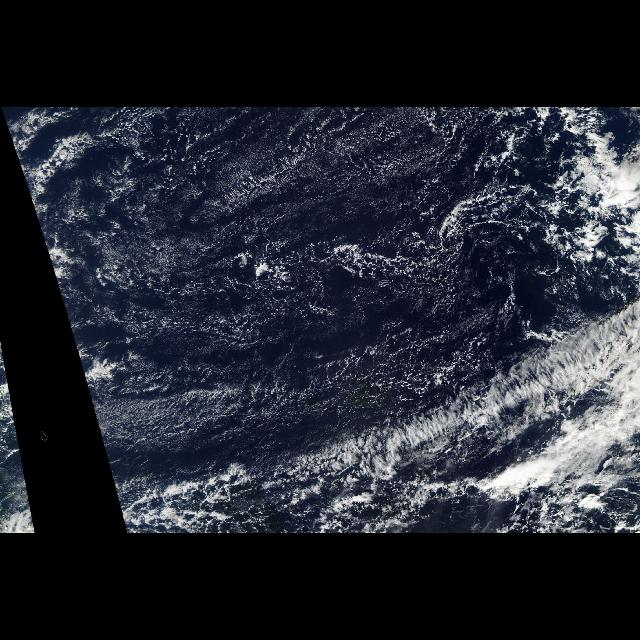Fish: (89, 334, 639, 514)
Gravel: (272, 287, 486, 389)
Sugar: (100, 110, 450, 432)
